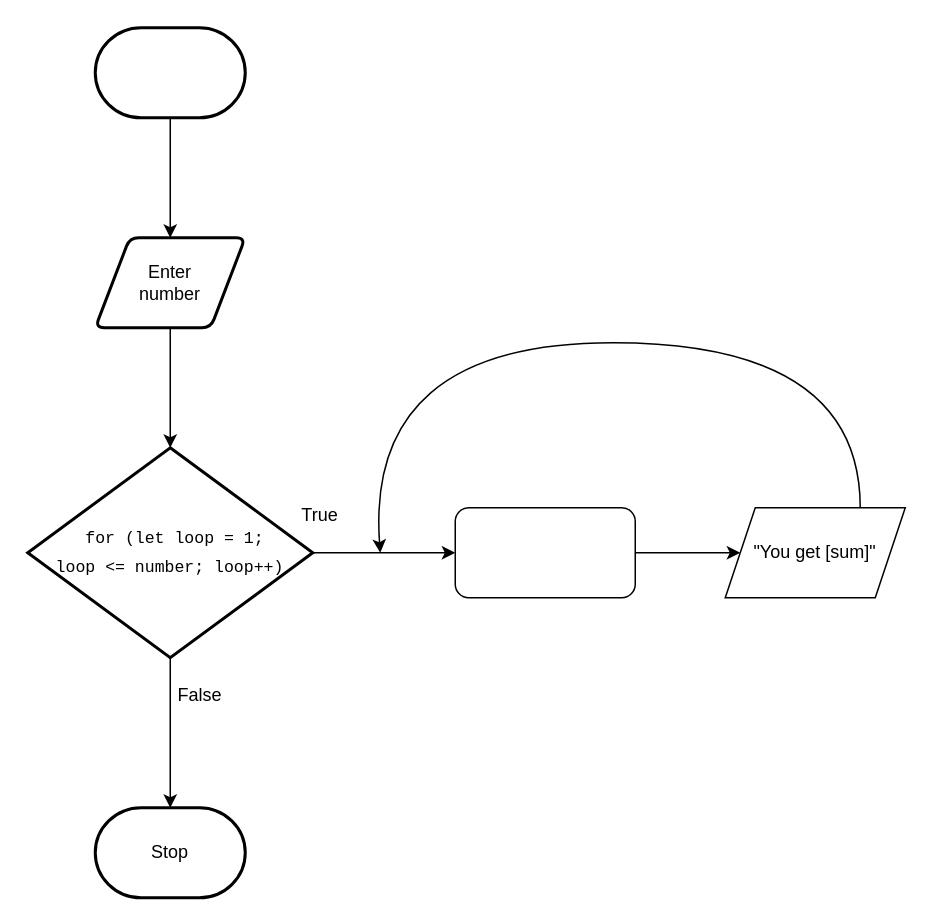
The diagram is 932 pixels wide and 924 high, and some of its shapes have lost their labels. Here are the shapes that lost their labels. From the top down, the centre of each, then its label:
point 169,72: Start
point 544,552: sum *= loop
